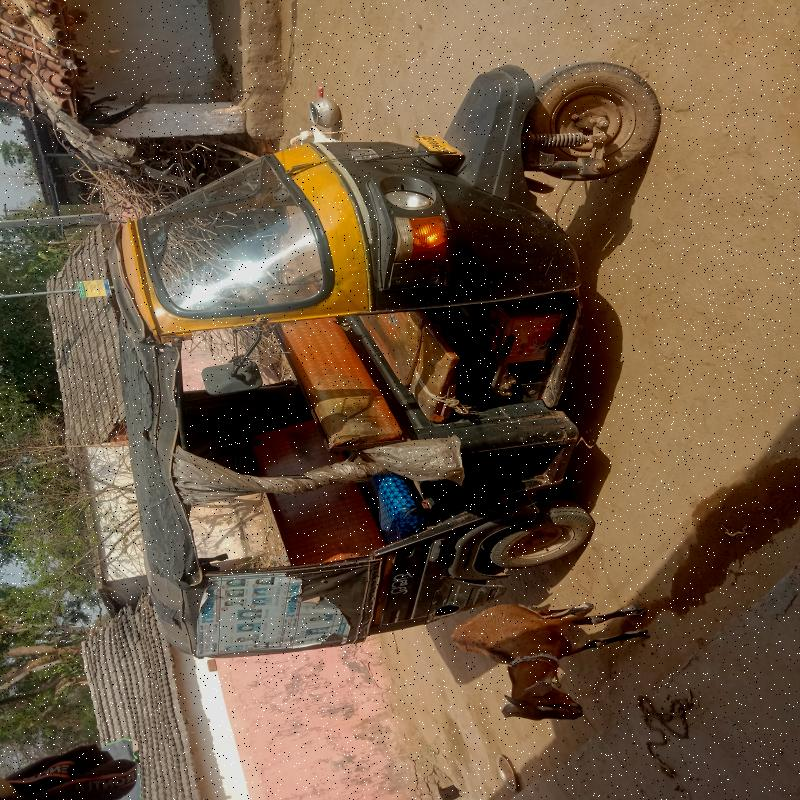auto: (143, 74, 650, 646)
